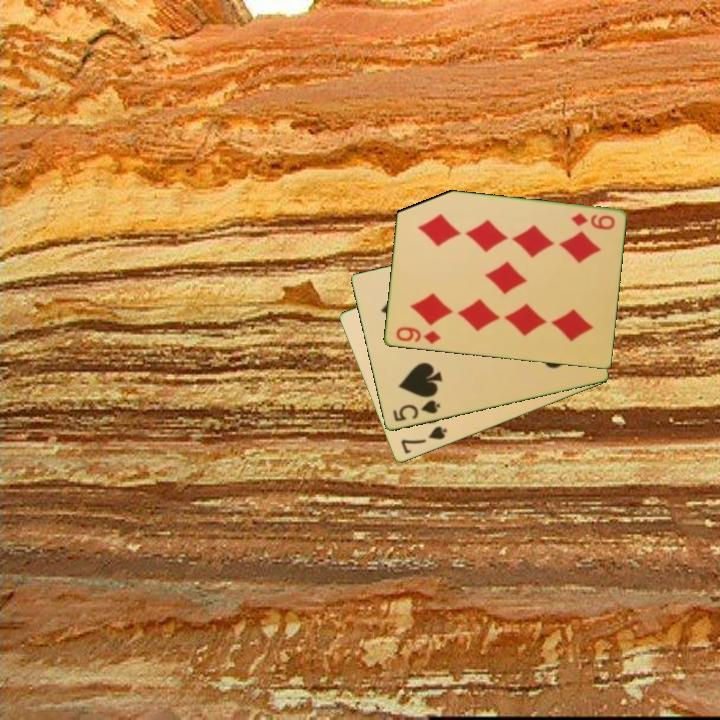5s: (389, 397, 443, 425)
7s: (397, 423, 450, 457)
9d: (392, 323, 444, 347), (567, 210, 617, 233)
